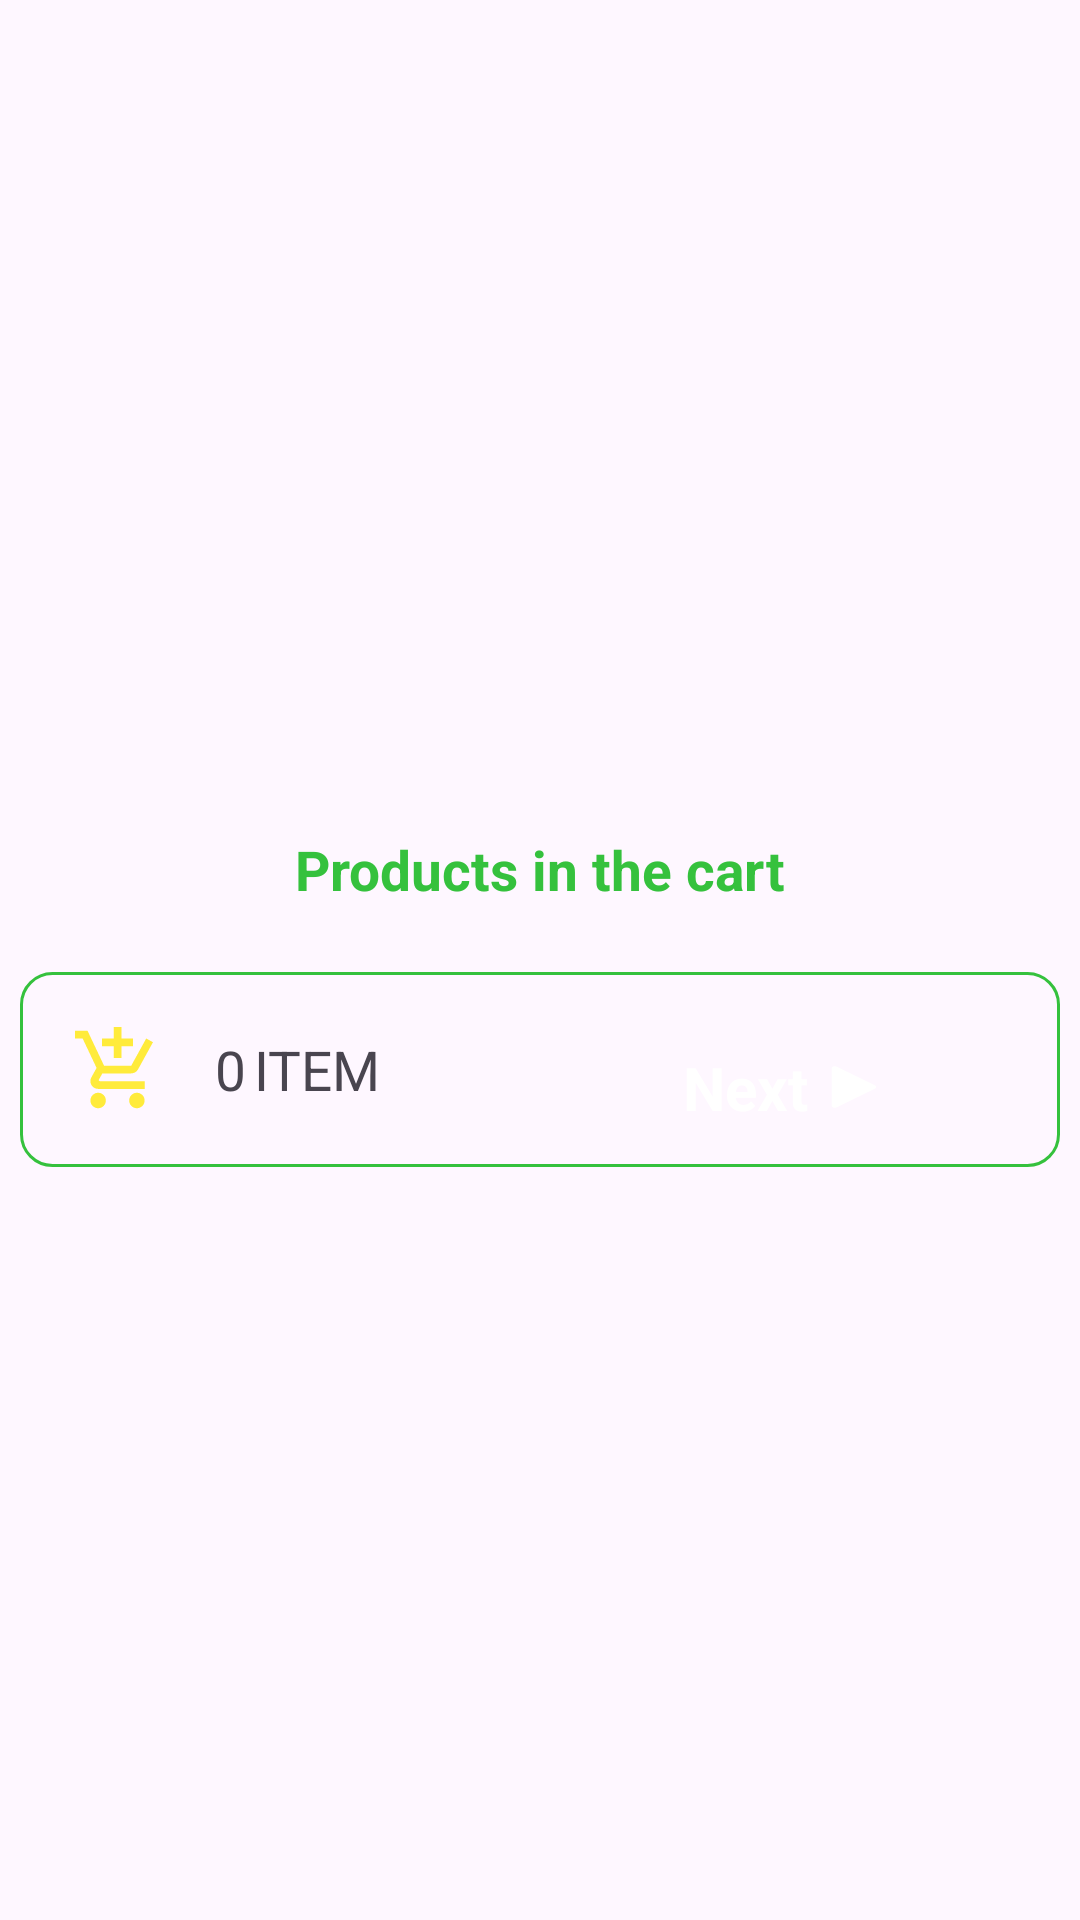

Screen size 1080 x 1920. Icon name, then its box in pixels as (x1, y1, x2, y2):
add shopping cart: (75, 1027, 153, 1109)
